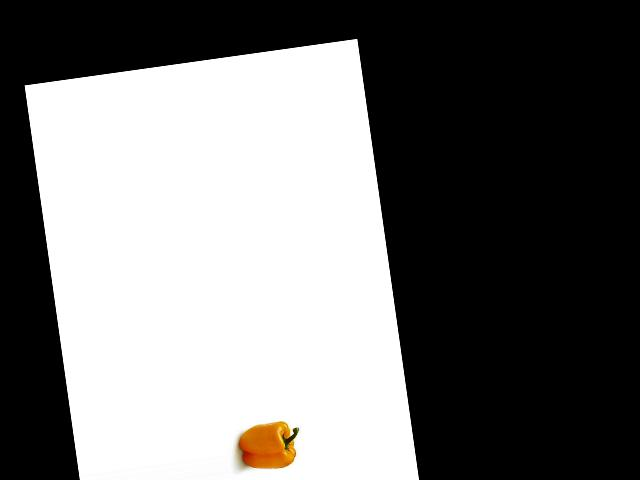bell_pepper: (235, 412, 306, 473)
